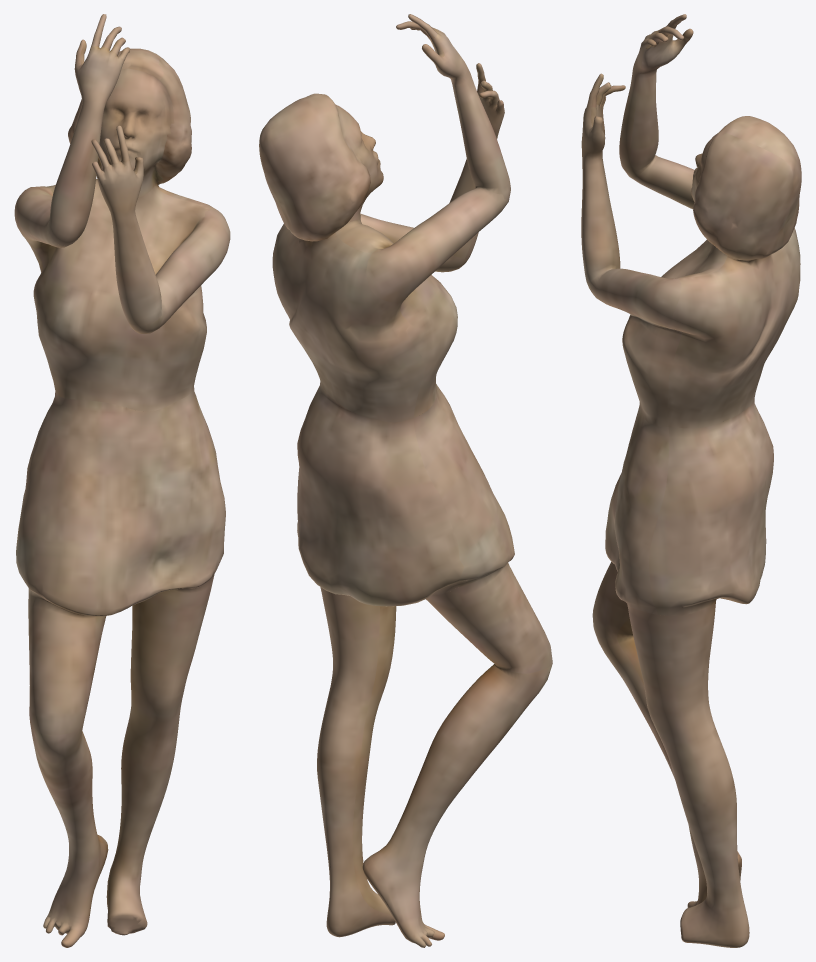
The model's file is greek-statue.glb.
3 renders of one model, left to right at view 1: azimuth 30°, elevation 25°; view 2: azimuth 150°, elevation 25°; view 3: azimuth 270°, elevation 25°, orthographic.
Visible parts, largest first — view 1: mesh_low_part_02_0, mesh_low_part01_0, mesh_low_part_03_0; view 2: mesh_low_part01_0, mesh_low_part_02_0, mesh_low_part_03_0; view 3: mesh_low_part01_0, mesh_low_part_02_0, mesh_low_part_03_0.
Boxes of the visible parts, box(x1,y1,x2,y2) form: mesh_low_part_02_0: box(16, 14, 225, 616); mesh_low_part01_0: box(14, 48, 230, 411); mesh_low_part_03_0: box(28, 574, 214, 947); mesh_low_part01_0: box(259, 93, 508, 422); mesh_low_part_02_0: box(297, 14, 514, 606); mesh_low_part_03_0: box(317, 562, 552, 947); mesh_low_part01_0: box(586, 116, 801, 428); mesh_low_part_02_0: box(581, 14, 773, 615); mesh_low_part_03_0: box(592, 562, 749, 947).
Size of the model in its own units: 0.489 by 1.92 by 0.4198.
Materials: 3 (3 with a texture image).
